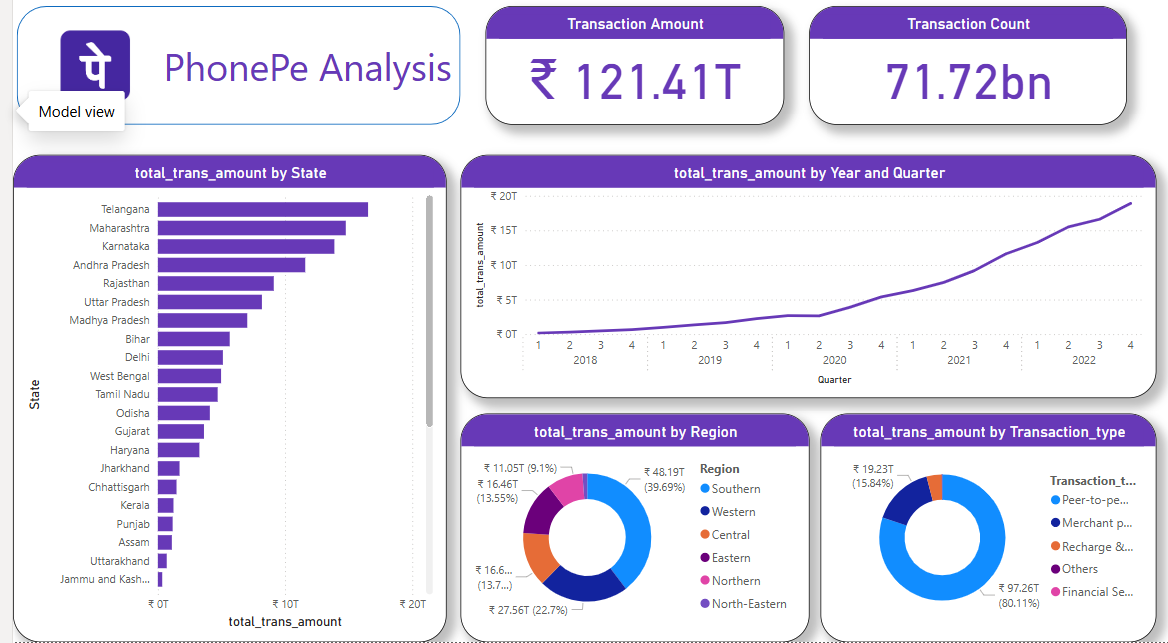

The dashboard page shown, as its layout file describes it:
{"tool":"powerbi","page":{"name":"Page 1","canvas":[1280,720],"ordinal":0},"visuals":[{"type":"card","title":"Transaction Amount","fields":{"Values":["agg_trans.total_trans_amount"]},"box":[518.7,22,328,130.4],"z":0},{"type":"card","title":"Transaction Count","fields":{"Values":["agg_trans.total_trans_count"]},"box":[874.1,22,348.5,130.4],"z":1000},{"type":"barChart","fields":{"Category":["agg_trans.State"],"Y":["agg_trans.total_trans_amount"]},"box":[0,185.2,476.2,535.2],"z":2000},{"type":"donutChart","fields":{"Y":["agg_trans.total_trans_amount"],"Category":["agg_trans.Region"]},"box":[491.3,469.3,382.8,251.1],"z":3000},{"type":"lineChart","fields":{"Category":["agg_trans.Year","agg_trans.Quarter"],"Y":["agg_trans.total_trans_amount"]},"box":[491.3,185.2,764.3,267.6],"z":4000},{"type":"donutChart","fields":{"Category":["agg_trans.Transaction_type"],"Y":["agg_trans.total_trans_amount"]},"box":[886.5,469.3,369.1,251.1],"z":5000},{"type":"shape","box":[4.1,22,487.1,130.4],"z":6000},{"type":"image","box":[22,31.6,137.2,111.1],"z":7000}]}

Visuals, with their boxes in screenshot pixels (x1, y1, x2, y2):
"Transaction Amount" card: {"x1": 482, "y1": 2, "x2": 781, "y2": 121}
"Transaction Count" card: {"x1": 806, "y1": 2, "x2": 1123, "y2": 121}
barChart - agg_trans.State x agg_trans.total_trans_amount: {"x1": 9, "y1": 151, "x2": 443, "y2": 638}
donutChart - agg_trans.total_trans_amount x agg_trans.Region: {"x1": 457, "y1": 409, "x2": 806, "y2": 638}
lineChart - agg_trans.Year x agg_trans.Quarter: {"x1": 457, "y1": 151, "x2": 1153, "y2": 394}
donutChart - agg_trans.Transaction_type x agg_trans.total_trans_amount: {"x1": 817, "y1": 409, "x2": 1153, "y2": 638}
shape: {"x1": 13, "y1": 2, "x2": 457, "y2": 121}
image: {"x1": 29, "y1": 11, "x2": 154, "y2": 112}
